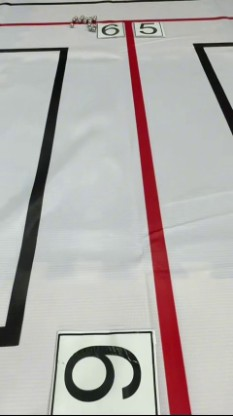ironball: (82, 17, 93, 24), (89, 13, 96, 22), (68, 19, 74, 27), (73, 14, 80, 19), (88, 26, 93, 32), (78, 16, 85, 20), (71, 16, 75, 21), (89, 21, 92, 26)
